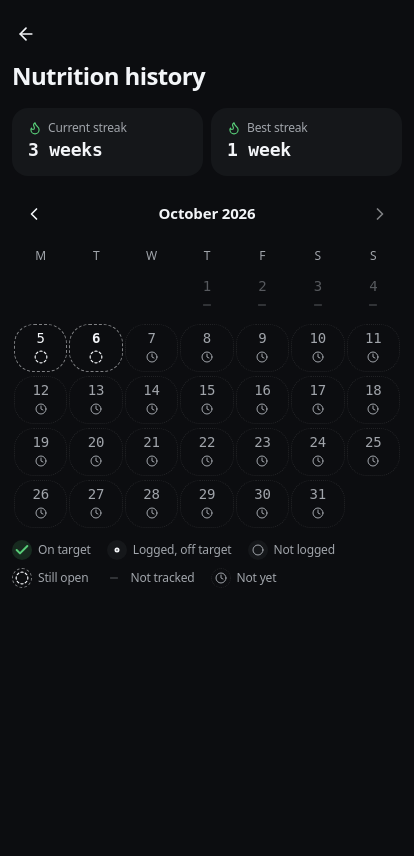
Scenario: HistoryScreen › explains a month without any active day and asks the server nothing for it
Check: the button named "5 October: Still open" is shown, box [14, 324, 67, 372]
Click the button named "Previous month": {"x": 34, "y": 214} [12, 192, 56, 236]
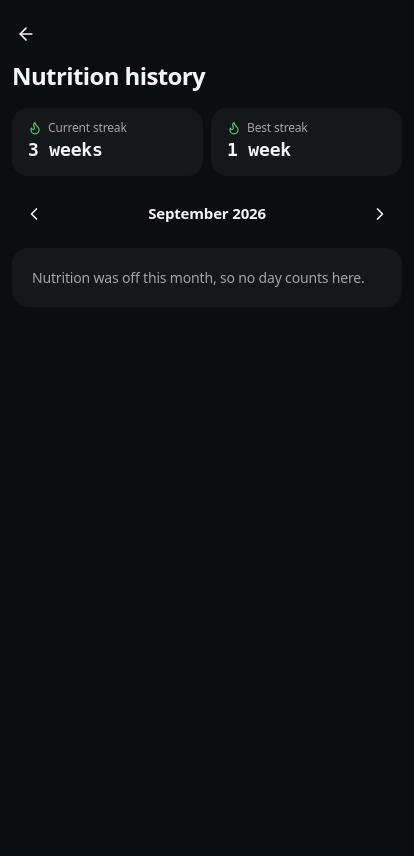
Check: the text "Nutrition was off this month, so no day counts here." is shown, box [12, 248, 402, 307]
Check: the table is gone
